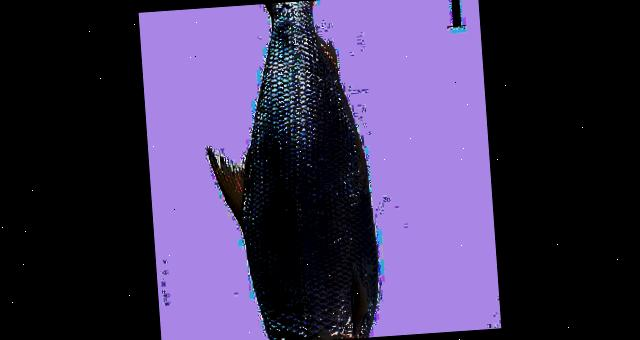Healthy Fish: (210, 0, 381, 340)
